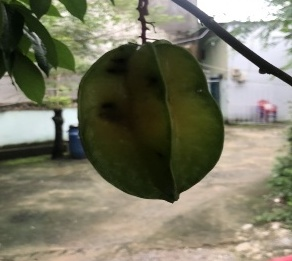Khe: (73, 33, 232, 205)
